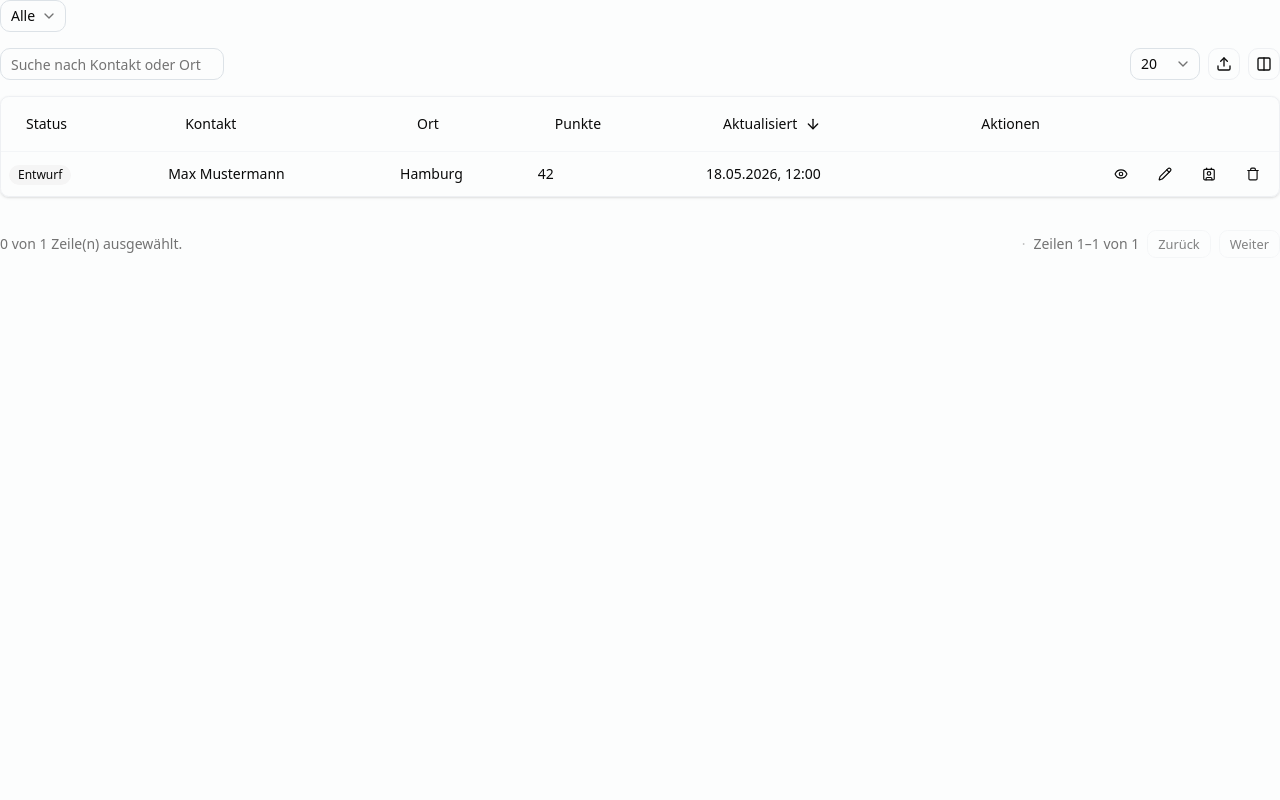
Test: StandortanalysenTable › disables CRM sync confirm when both options are unchecked
Step 1. Click the button named "Im CRM übernehmen" → (1209, 174), box x1=1191 y1=160 x2=1227 y2=188
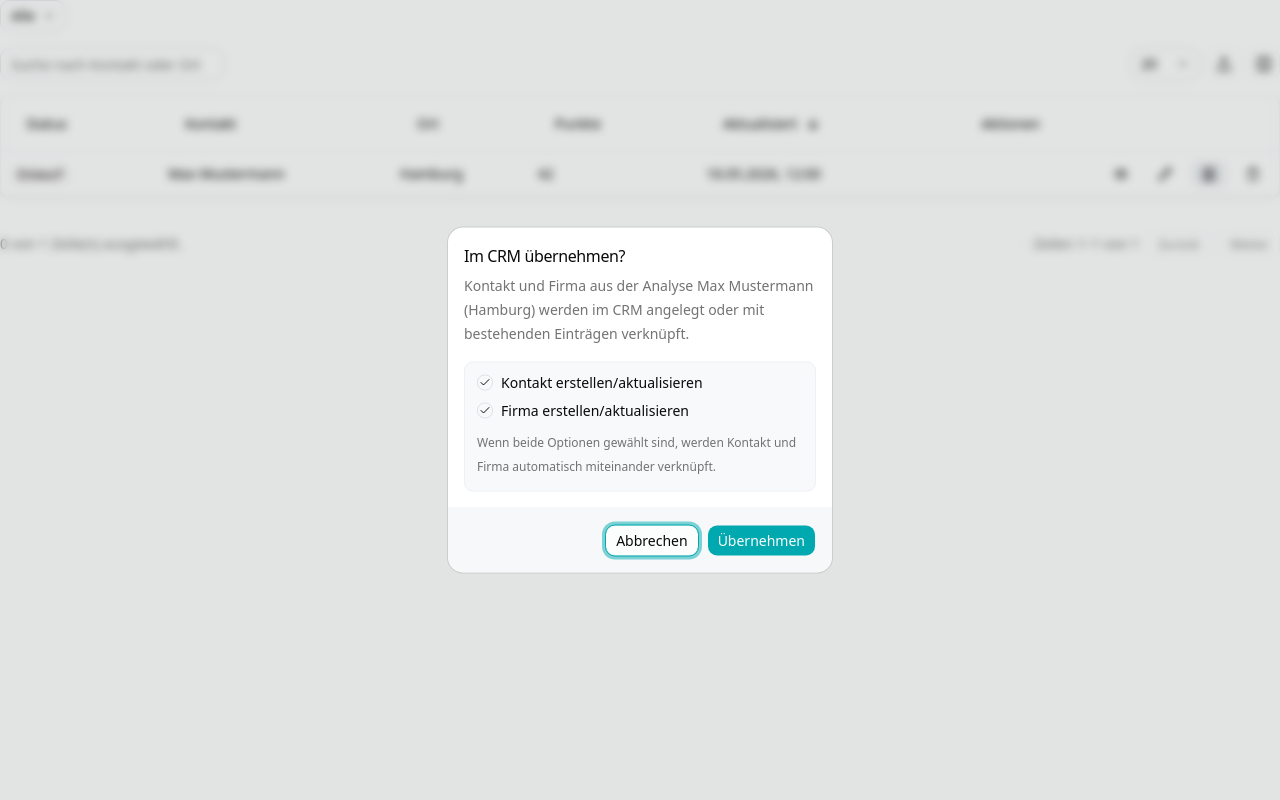
Step 2. Click the checkbox named "Kontakt erstellen/aktualisieren" next to "Kontakt erstellen/aktualisieren" → (485, 382), box x1=477 y1=374 x2=493 y2=390
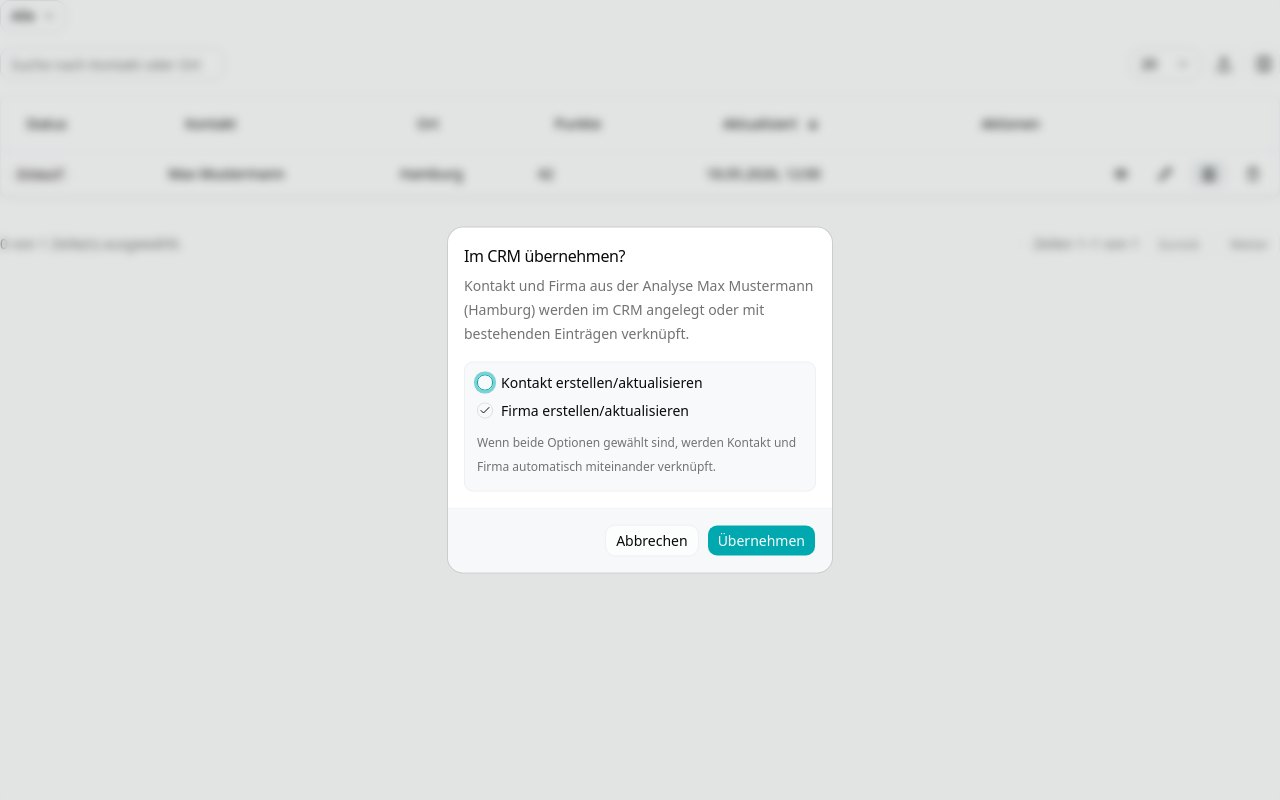
Step 3. Click the checkbox named "Firma erstellen/aktualisieren" next to "Firma erstellen/aktualisieren" → (485, 410), box x1=477 y1=402 x2=493 y2=418
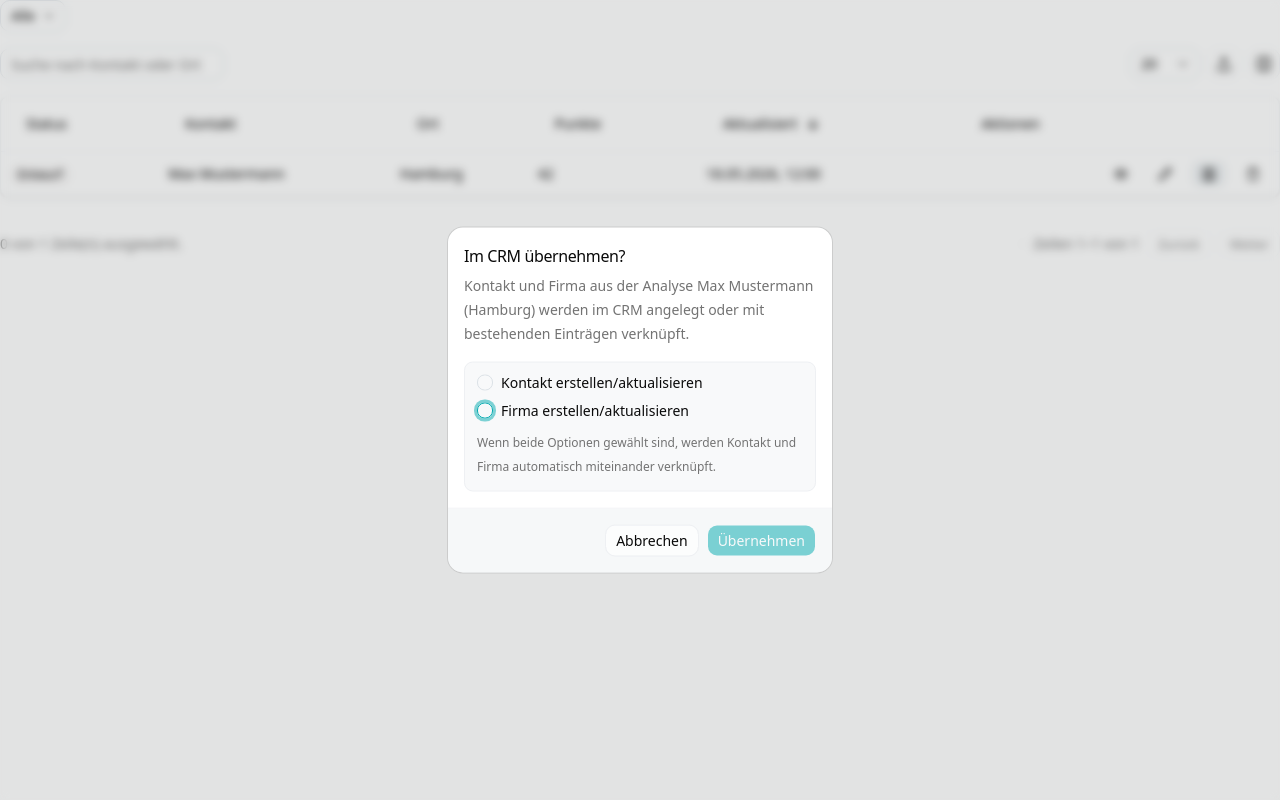
Check: the button "Übernehmen" is disabled, box x1=707 y1=524 x2=816 y2=556
